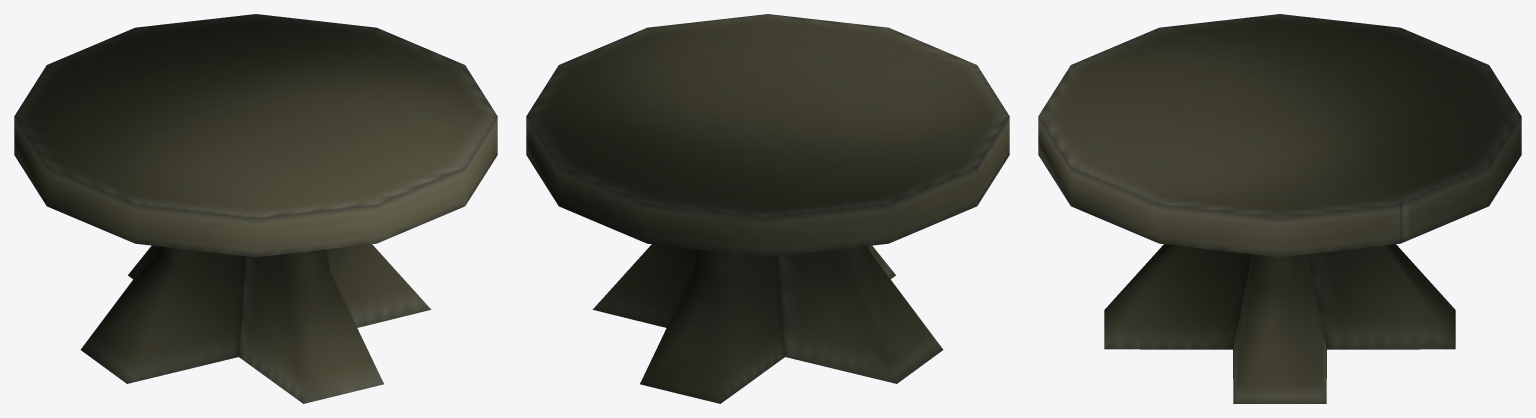
The model's file is Round Table.fbx.
The picture shows the model from 3 angles, left to right: view 1: azimuth 30°, elevation 25°; view 2: azimuth 150°, elevation 25°; view 3: azimuth 270°, elevation 25°; orthographic projection.
Parts seen in each view (by area): view 1: Magic_round_table; view 2: Magic_round_table; view 3: Magic_round_table.
Part boxes in pixels (x1,y1,x2,y2): Magic_round_table: (14, 14, 497, 403); Magic_round_table: (526, 14, 1009, 403); Magic_round_table: (1038, 14, 1521, 403).
Bounding box in the file's own units: 1.29 × 0.6279 × 1.29.
